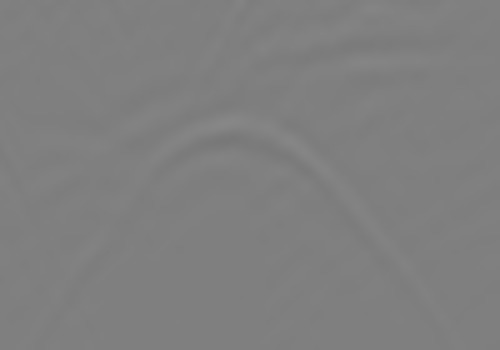hyperbola: (85, 112, 450, 323)
